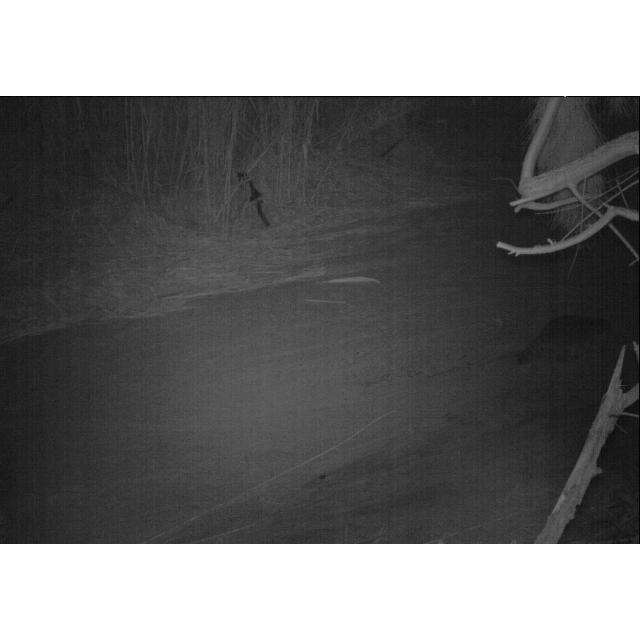animals: (523, 312, 603, 368)
